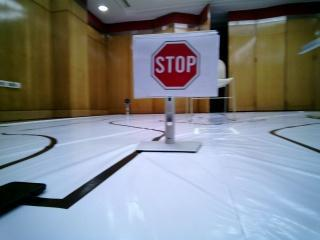stop: (138, 39, 211, 94)
